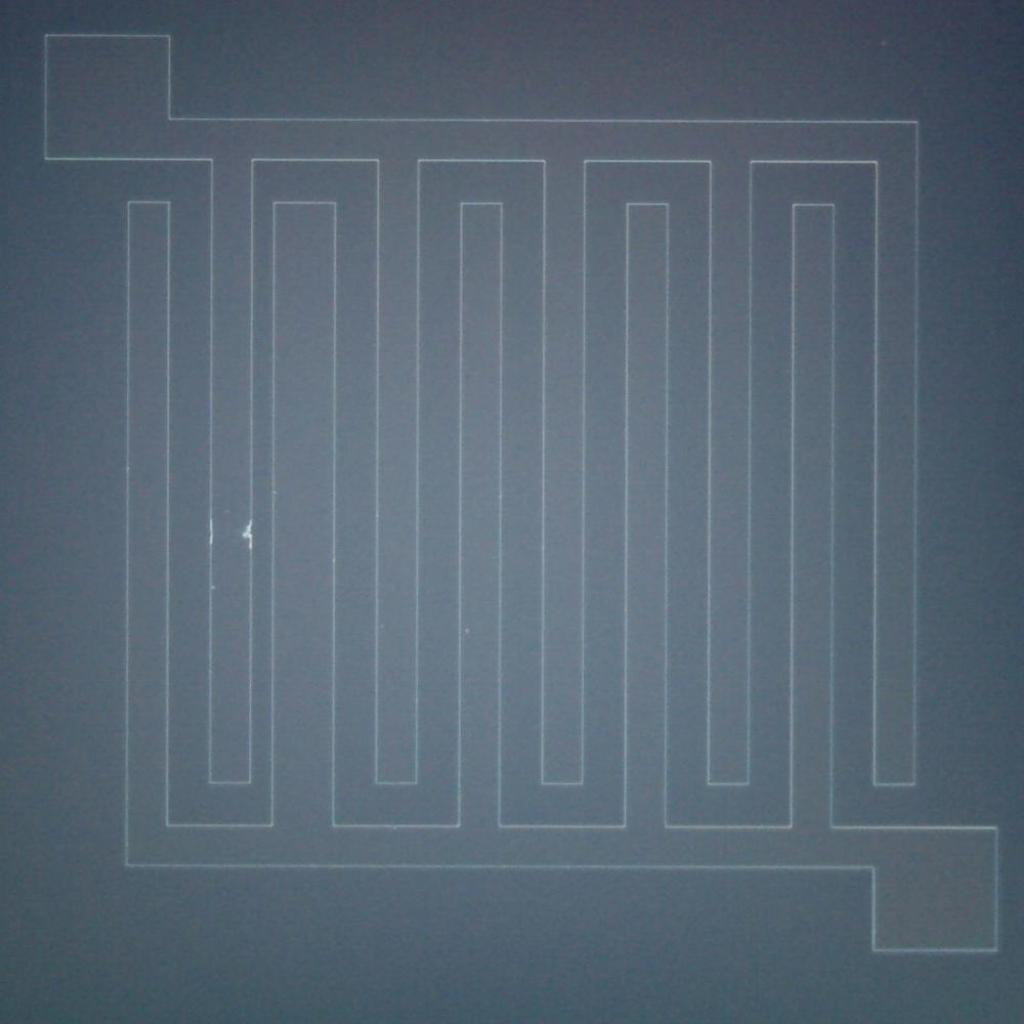dot: (212, 586, 216, 590), (465, 629, 469, 633)
